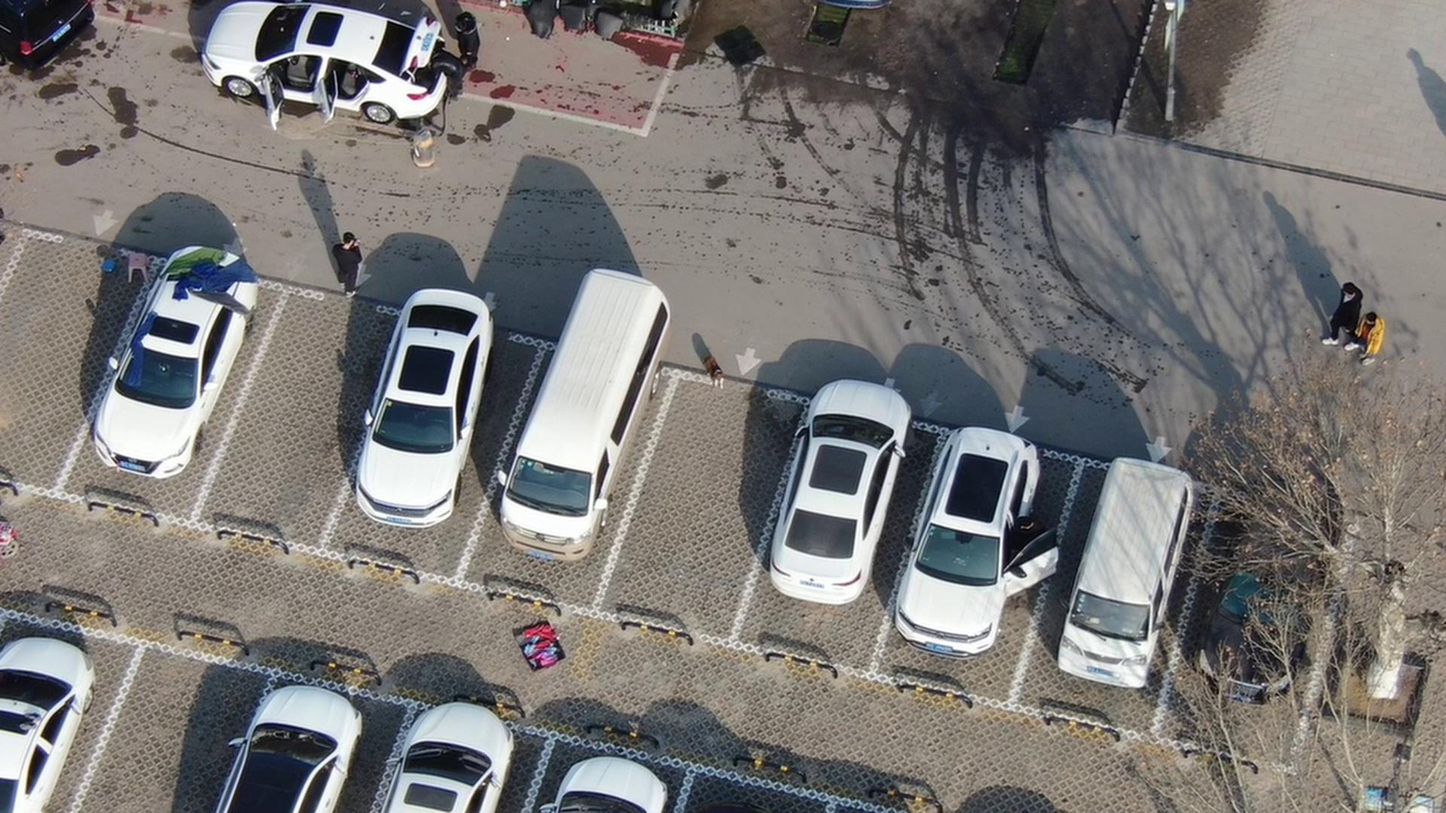human: (434, 42, 481, 104), (1325, 278, 1365, 348), (334, 227, 377, 290), (1357, 309, 1391, 373), (1011, 514, 1053, 556)
